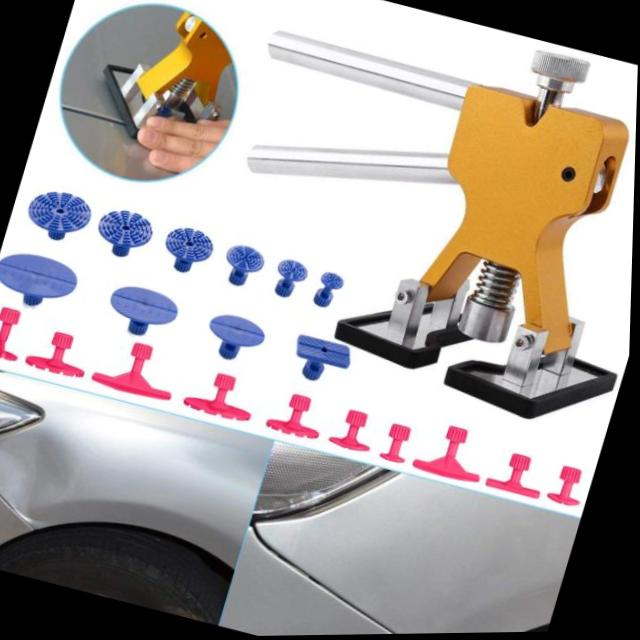Dent: (0, 419, 98, 522)
